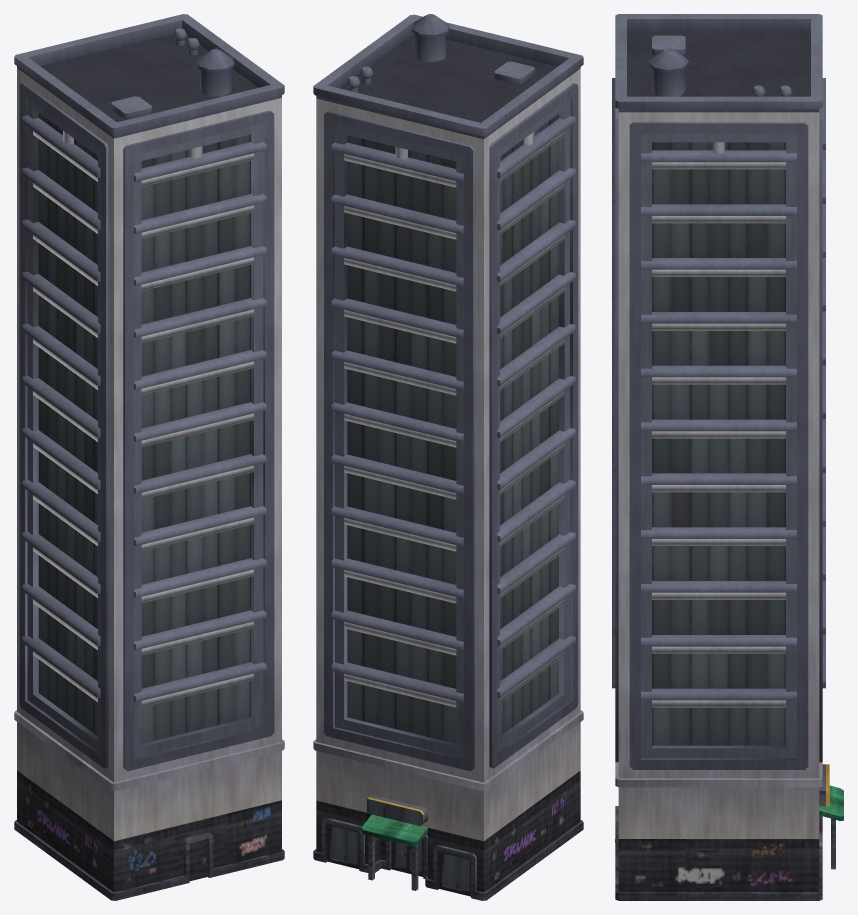
Rendered from building-skyscraper-d-white-scuffed.glb.
3 renders of one model, left to right at view 1: azimuth 30°, elevation 25°; view 2: azimuth 150°, elevation 25°; view 3: azimuth 270°, elevation 25°, orthographic. The views are drawn at different scales.
Visible parts, largest first — view 1: building-skyscraper-d; view 2: building-skyscraper-d; view 3: building-skyscraper-d.
Boxes of the visible parts, left/top/right/bottom form: building-skyscraper-d: left=14, top=14, right=284, bottom=900; building-skyscraper-d: left=313, top=14, right=583, bottom=900; building-skyscraper-d: left=612, top=14, right=843, bottom=900.
Size of the model in its own units: 1.28 by 5.47 by 1.39.
1 material, 1 textured.
